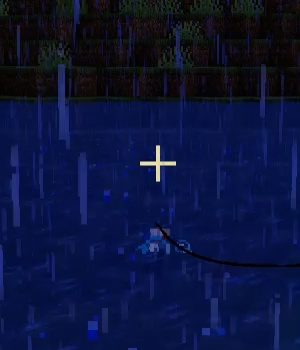up: (147, 223, 176, 253)
